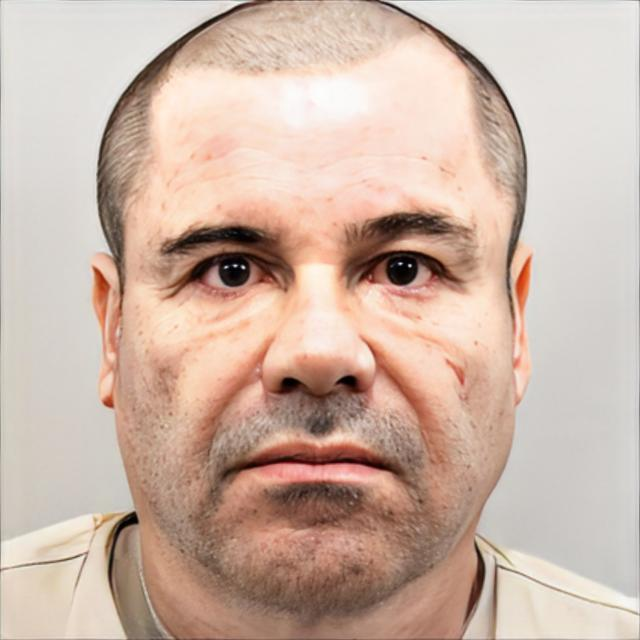neutral: (113, 40, 519, 619)
